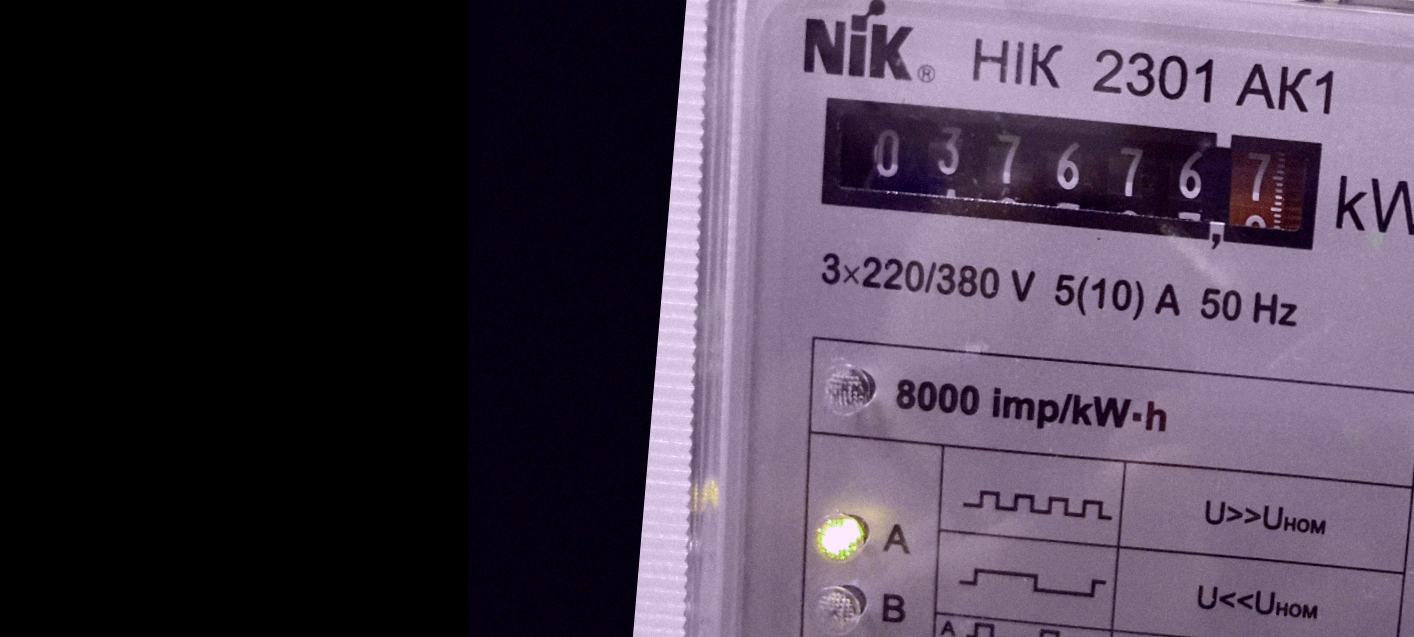0: (870, 122, 908, 180)
3: (933, 119, 966, 178)
6: (1051, 135, 1088, 191), (1175, 144, 1209, 201)
7: (1113, 141, 1148, 202), (991, 128, 1026, 186), (1243, 146, 1275, 204)
screen: (802, 78, 1341, 268)
